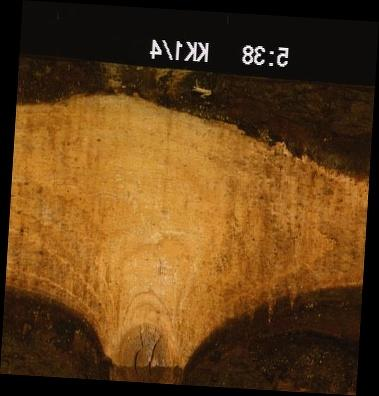sound_knot: (122, 325, 168, 382)
wave: (15, 62, 371, 172), (183, 277, 358, 390), (1, 286, 115, 377)
